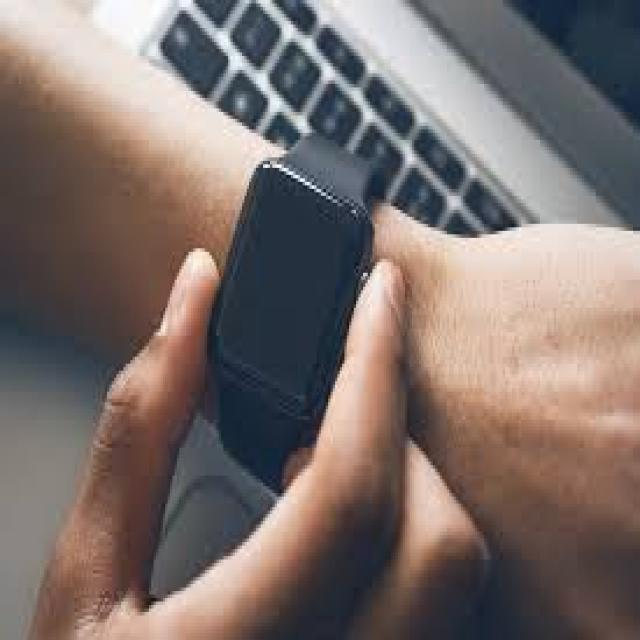watch: (193, 137, 380, 471)
